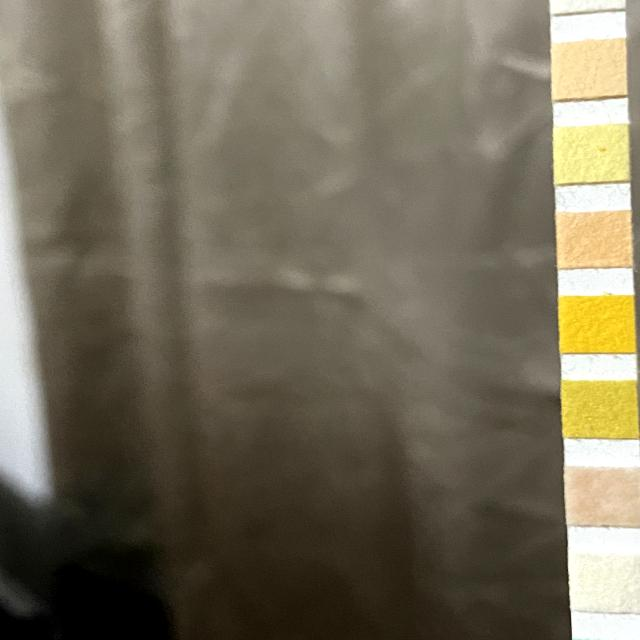Bilirubin: (573, 552, 640, 611)
Blood: (563, 296, 635, 353)
Ketone: (566, 467, 640, 527)
Protein: (555, 128, 629, 179)
SpGravity: (564, 382, 637, 437)
Urobilinogen: (555, 43, 625, 95)
pH: (559, 213, 631, 267)
